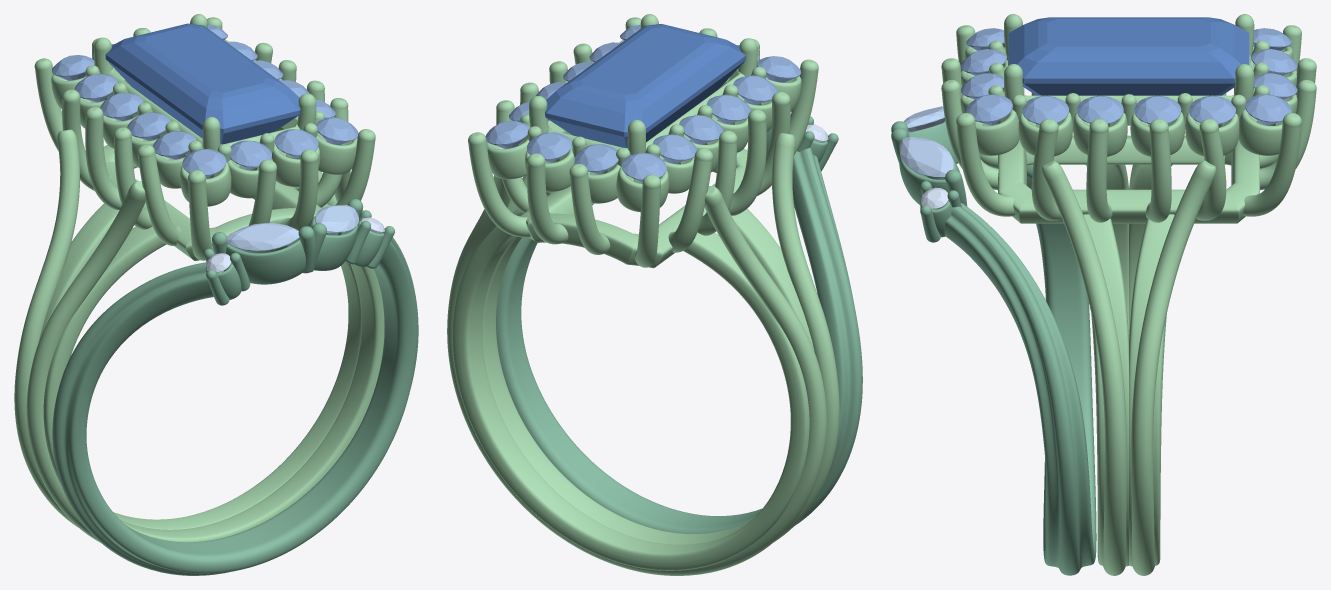
The model's file is WelshBandDesign1.glb.
3 renders of one model, left to right at view 1: azimuth 30°, elevation 25°; view 2: azimuth 150°, elevation 25°; view 3: azimuth 270°, elevation 25°, orthographic. The views are drawn at different scales.
Visible parts, largest first — view 1: WelshBandDesign1.3dm, Gem (×12); view 2: WelshBandDesign1.3dm, Gem (×10); view 3: WelshBandDesign1.3dm, Gem (×15).
Boxes of the visible parts, x1=… form: WelshBandDesign1.3dm: x1=14, y1=14, x2=418, y2=575; Gem (×12): x1=52, y1=23, x2=358, y2=251; WelshBandDesign1.3dm: x1=447, y1=14, x2=862, y2=575; Gem (×10): x1=485, y1=24, x2=801, y2=182; WelshBandDesign1.3dm: x1=891, y1=14, x2=1316, y2=575; Gem (×15): x1=899, y1=17, x2=1297, y2=177.
Bounding box in the file's own units: 2.13 × 2.72 × 2.01.
